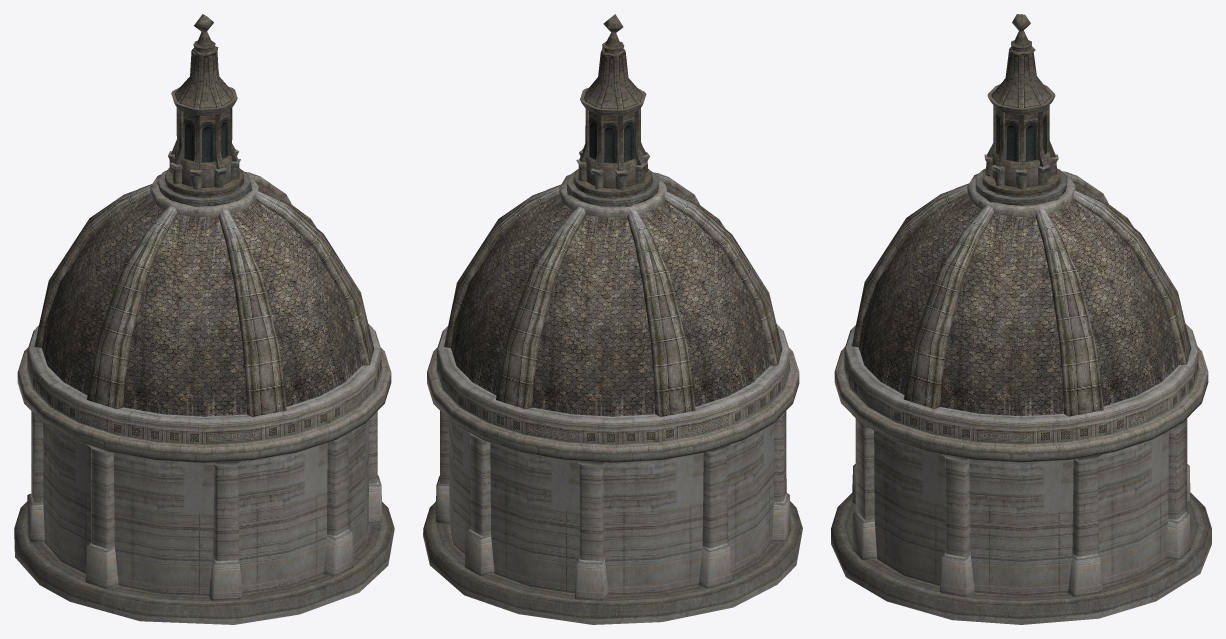
The model's file is TowerUp.fbx.
The picture shows the model from 3 angles, left to right: view 1: azimuth 30°, elevation 25°; view 2: azimuth 150°, elevation 25°; view 3: azimuth 270°, elevation 25°; orthographic projection.
Visible parts, largest first — view 1: LV_Campagna_Uni_TowerUpRoof_SM_CJH; view 2: LV_Campagna_Uni_TowerUpRoof_SM_CJH; view 3: LV_Campagna_Uni_TowerUpRoof_SM_CJH.
Part boxes in pixels (<box>): LV_Campagna_Uni_TowerUpRoof_SM_CJH: <box>14,14,394,624</box>; LV_Campagna_Uni_TowerUpRoof_SM_CJH: <box>423,14,802,624</box>; LV_Campagna_Uni_TowerUpRoof_SM_CJH: <box>831,14,1211,624</box>.
Size of the model in its own units: 2.96 by 4.56 by 2.96.
